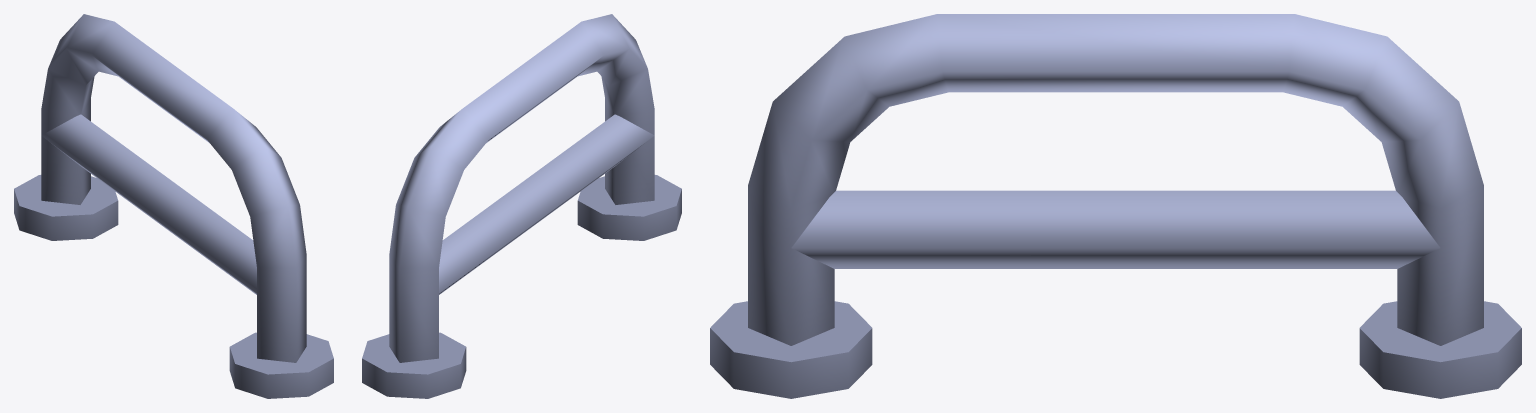
The model's file is construction-fence.glb.
3 renders of one model, left to right at view 1: azimuth 30°, elevation 25°; view 2: azimuth 150°, elevation 25°; view 3: azimuth 270°, elevation 25°, orthographic. The views are drawn at different scales.
Parts seen in each view (by area): view 1: construction-fence; view 2: construction-fence; view 3: construction-fence.
Part boxes in pixels (left/top/right/bottom): construction-fence: left=14, top=14, right=333, bottom=398; construction-fence: left=362, top=14, right=681, bottom=398; construction-fence: left=710, top=14, right=1521, bottom=398.
Size of the model in its own units: 0.075 by 0.1787 by 0.375.
1 material, 1 textured.
